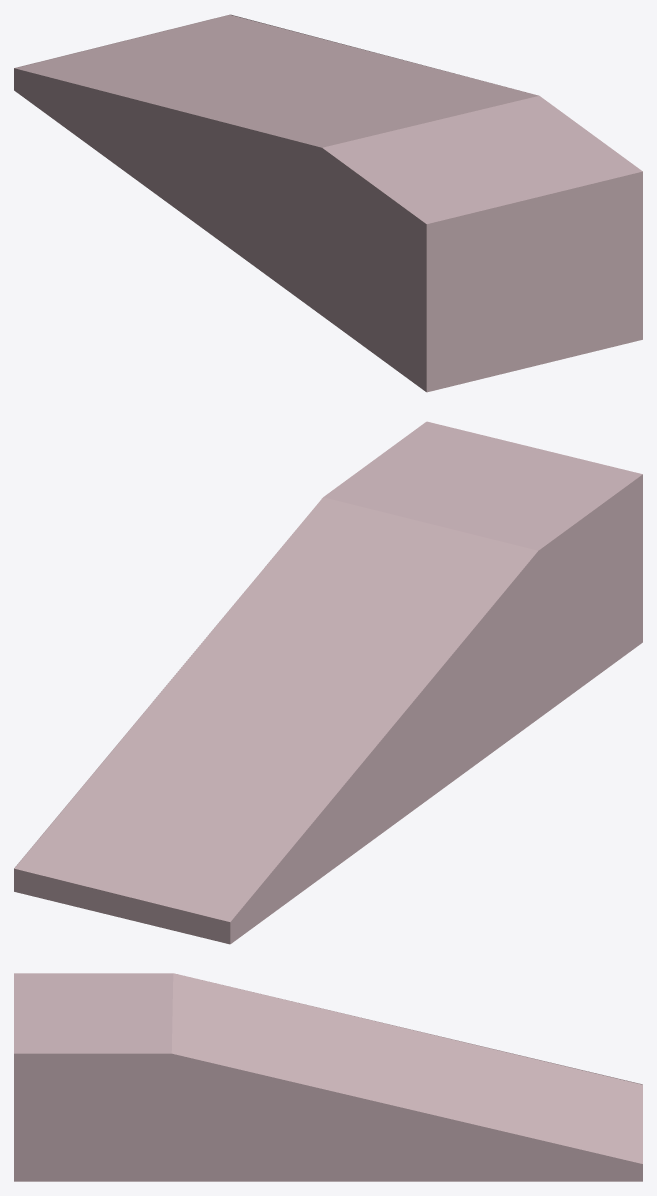
File: rampaTrasera.fbx
3 renders of one model, top to bottom at view 1: azimuth 30°, elevation 25°; view 2: azimuth 150°, elevation 25°; view 3: azimuth 270°, elevation 25°, orthographic. The views are drawn at different scales.
Parts seen in each view (by area): view 1: rampaTrasera; view 2: rampaTrasera; view 3: rampaTrasera.
Part boxes in pixels (x1=…): rampaTrasera: x1=14, y1=14, x2=642, y2=392; rampaTrasera: x1=14, y1=421, x2=642, y2=944; rampaTrasera: x1=14, y1=973, x2=642, y2=1181.
Size of the model in its own units: 80.99 by 60.18 by 268.
